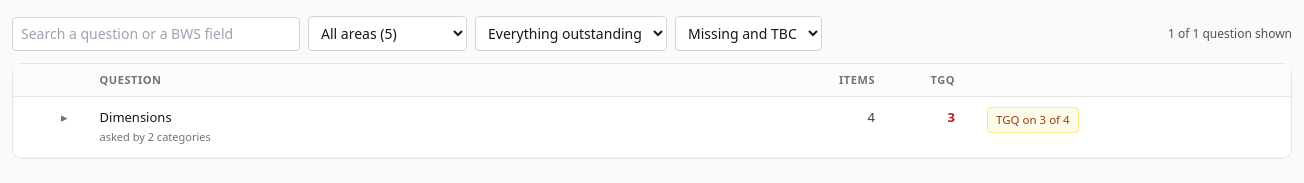
Test: QuestionGroups › says so when nothing matches
The width and height of the screenshot is (1304, 183).
Type "nothing like this" into the search field named "Search the questions" at (156, 34), box left=12, top=16, right=300, bottom=50
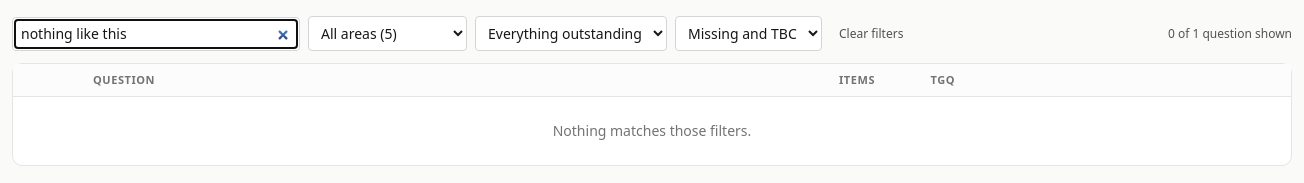
Check: the text "Nothing matches those filters." is shown, box left=13, top=96, right=1291, bottom=165
